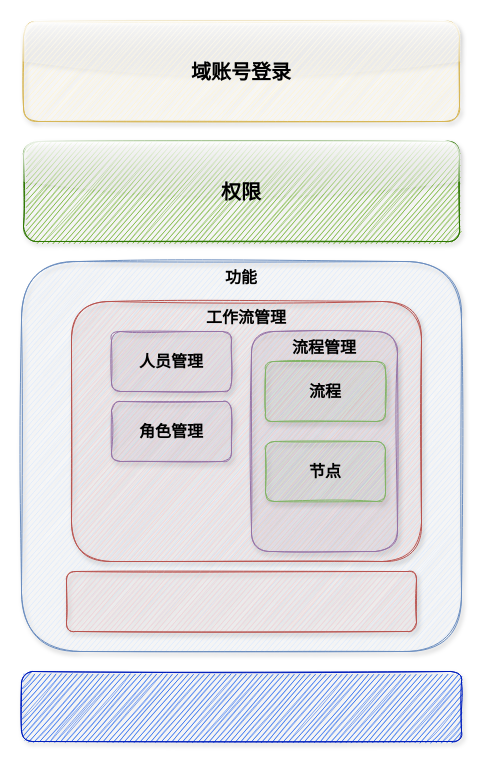
Some shapes in this 485 by 766 pixel diagram are drawn without their labels. Each missing label, with the centre of its shape:
Service: the point at 242,707
审核管理: the point at 242,602
